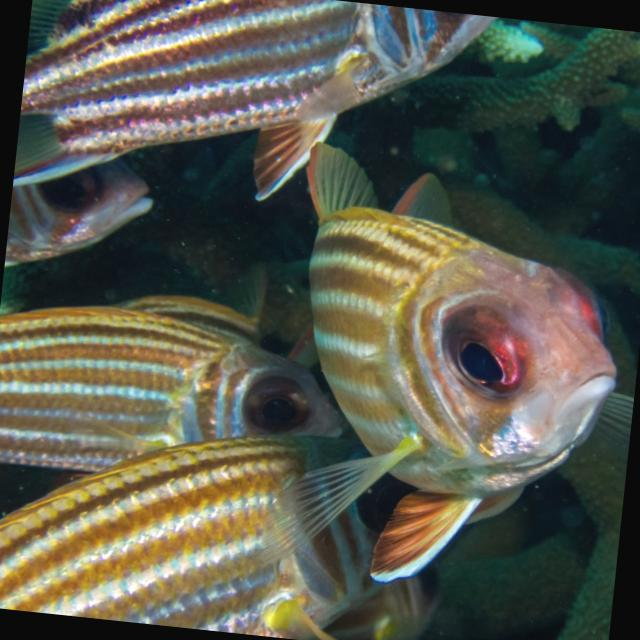Asker Baligi: (222, 120, 640, 613)
